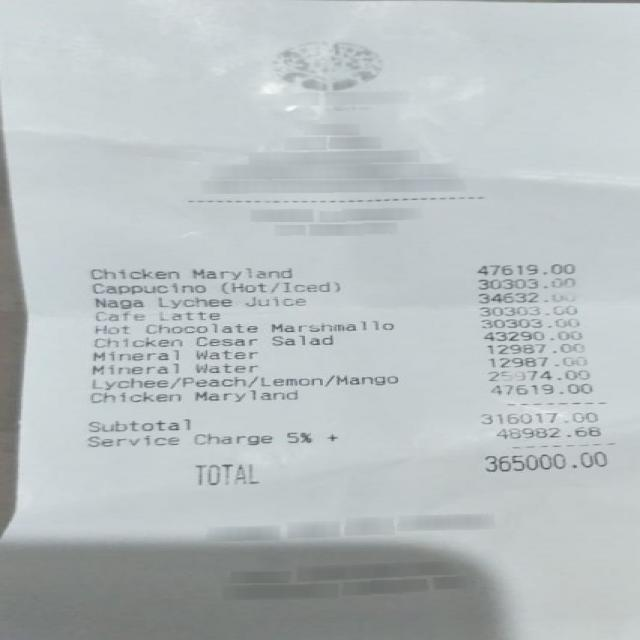text: (89, 374, 394, 388), (480, 450, 606, 470), (476, 411, 595, 424), (266, 320, 392, 332), (219, 280, 338, 292), (194, 388, 296, 402), (86, 416, 186, 430), (192, 463, 257, 484), (90, 281, 203, 293), (143, 321, 255, 333), (473, 262, 572, 275), (494, 426, 598, 438), (475, 290, 575, 302), (476, 304, 576, 316), (475, 276, 571, 288), (486, 341, 582, 353), (90, 361, 176, 374), (485, 369, 586, 380), (87, 390, 177, 402), (190, 267, 288, 278), (481, 329, 578, 340), (90, 348, 177, 360), (487, 383, 589, 393), (84, 434, 176, 445), (192, 431, 268, 444), (486, 356, 582, 366), (92, 336, 178, 347), (158, 295, 228, 308), (479, 317, 577, 326), (86, 269, 174, 278), (192, 334, 252, 345), (156, 310, 220, 320), (192, 348, 255, 358), (192, 362, 255, 372), (242, 294, 303, 304), (270, 335, 332, 344), (93, 297, 140, 308), (91, 310, 142, 320), (93, 324, 128, 333), (284, 432, 306, 441), (324, 434, 334, 439)
